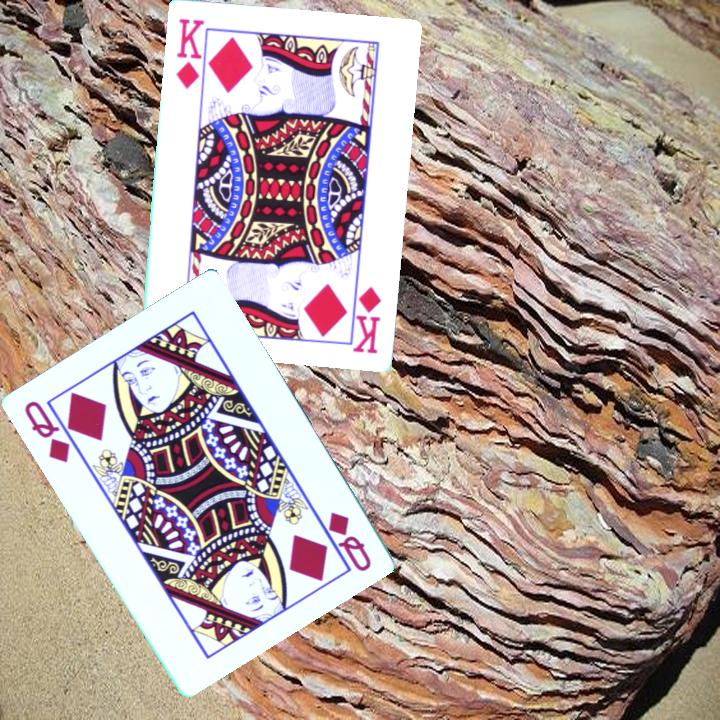Kd: (172, 14, 210, 94), (348, 283, 384, 356)
Qd: (20, 397, 82, 466), (324, 508, 374, 575)
